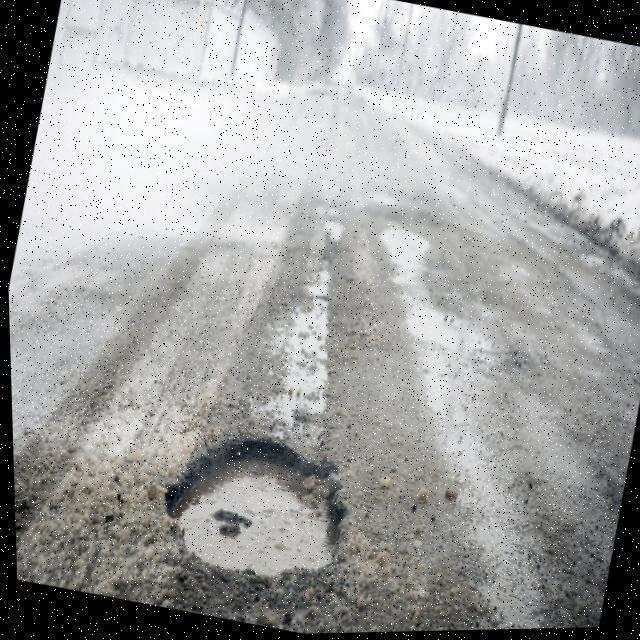Pothole: (157, 444, 343, 576)
